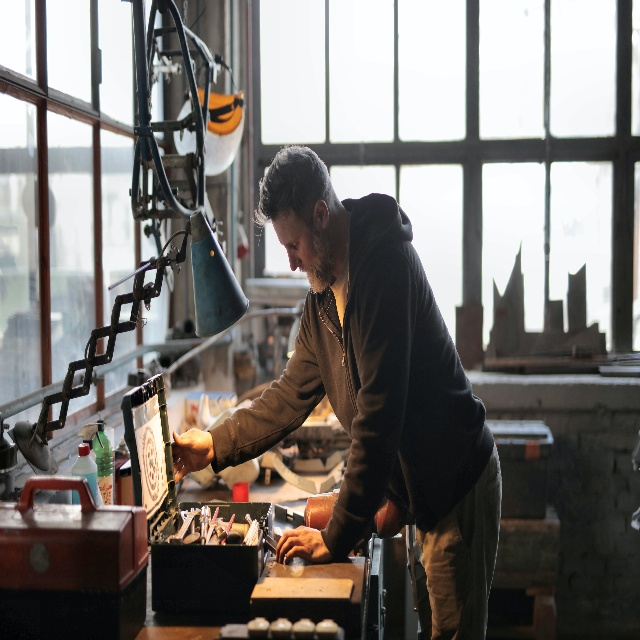Sin_guantes: (170, 428, 214, 486), (275, 524, 332, 564)
